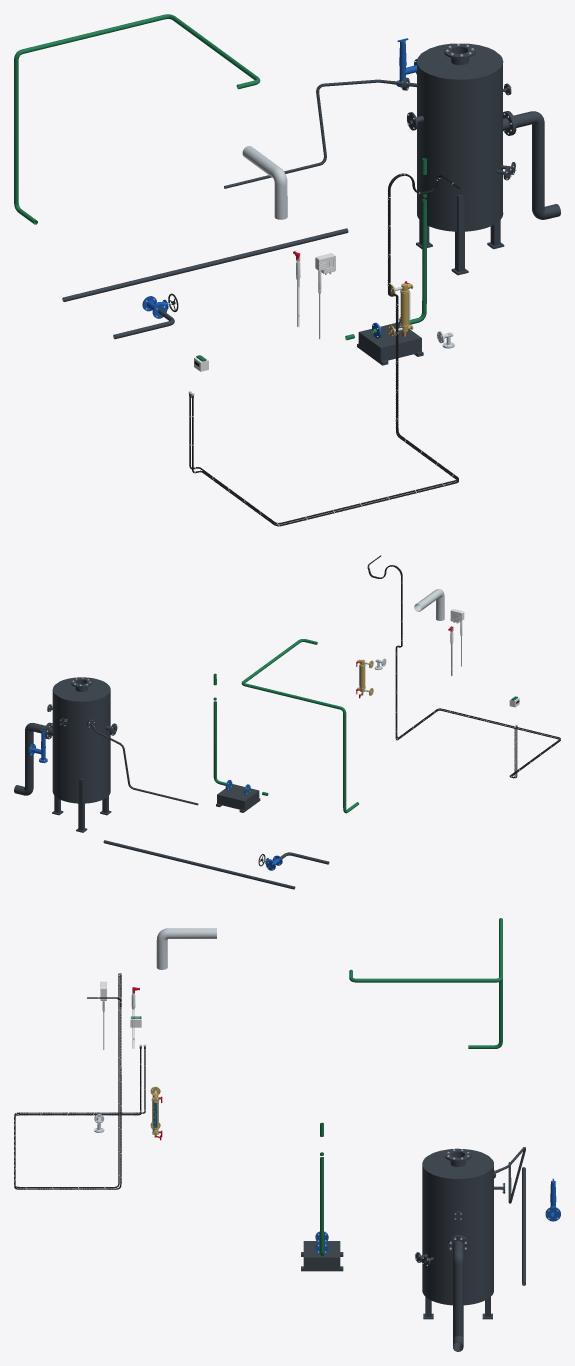
File: s4000-3-BLBakKrd.glb
3 views of the same model, one above another, from view 1: azimuth 30°, elevation 25°; view 2: azimuth 150°, elevation 25°; view 3: azimuth 270°, elevation 25° (orthographic). The views are drawn at different scales.
Visible parts, largest first — view 1: separator_bdv60_5 / dark, from_economizer / green, bdv_water_drain / dark, pump_branch_2 / dark, wiring_pressure_switch_2 / black, bottom_discharge / dark, wiring_pressure_switch_1 / black, steam_rise / steel, tds_without_fv / dark, pump_branch_2 / green, sight_glasses_2 / sight_glasses_2_0.npz; view 2: separator_bdv60_5 / dark, from_economizer / green, wiring_pressure_switch_1 / black, pump_branch_2 / dark, wiring_pressure_switch_2 / black, bdv_water_drain / dark, bottom_discharge / dark, steam_rise / steel, pump_branch_2 / green, tds_without_fv / dark; view 3: separator_bdv60_5 / dark, from_economizer / green, bdv_water_drain / dark, wiring_pressure_switch_2 / black, pump_branch_2 / dark, wiring_pressure_switch_1 / black, steam_rise / steel.
Part boxes in pixels (<box>): separator_bdv60_5 / dark: <box>404,43,515,275</box>; from_economizer / green: <box>14,14,260,224</box>; bdv_water_drain / dark: <box>506,111,560,219</box>; pump_branch_2 / dark: <box>357,322,423,365</box>; wiring_pressure_switch_2 / black: <box>189,174,458,524</box>; bottom_discharge / dark: <box>62,228,348,301</box>; wiring_pressure_switch_1 / black: <box>192,173,460,526</box>; steam_rise / steel: <box>242,146,287,219</box>; tds_without_fv / dark: <box>224,77,406,188</box>; pump_branch_2 / green: <box>345,158,426,340</box>; sight_glasses_2 / sight_glasses_2_0.npz: <box>388,281,413,337</box>; separator_bdv60_5 / dark: <box>45,677,117,832</box>; from_economizer / green: <box>241,639,359,813</box>; wiring_pressure_switch_1 / black: <box>367,555,560,778</box>; pump_branch_2 / dark: <box>216,784,260,812</box>; wiring_pressure_switch_2 / black: <box>368,562,560,778</box>; bdv_water_drain / dark: <box>14,722,50,795</box>; bottom_discharge / dark: <box>103,840,295,889</box>; steam_rise / steel: <box>414,589,444,620</box>; pump_branch_2 / green: <box>213,673,268,795</box>; tds_without_fv / dark: <box>87,720,198,805</box>; separator_bdv60_5 / dark: <box>415,1148,504,1319</box>; from_economizer / green: <box>349,918,502,1048</box>; bdv_water_drain / dark: <box>448,1235,468,1351</box>; wiring_pressure_switch_2 / black: <box>14,973,145,1188</box>; pump_branch_2 / dark: <box>301,1241,343,1271</box>; wiring_pressure_switch_1 / black: <box>14,973,141,1189</box>; steam_rise / steel: <box>156,928,216,969</box>.
Size of the model in its own units: 5.7 by 2.95 by 5.82.
